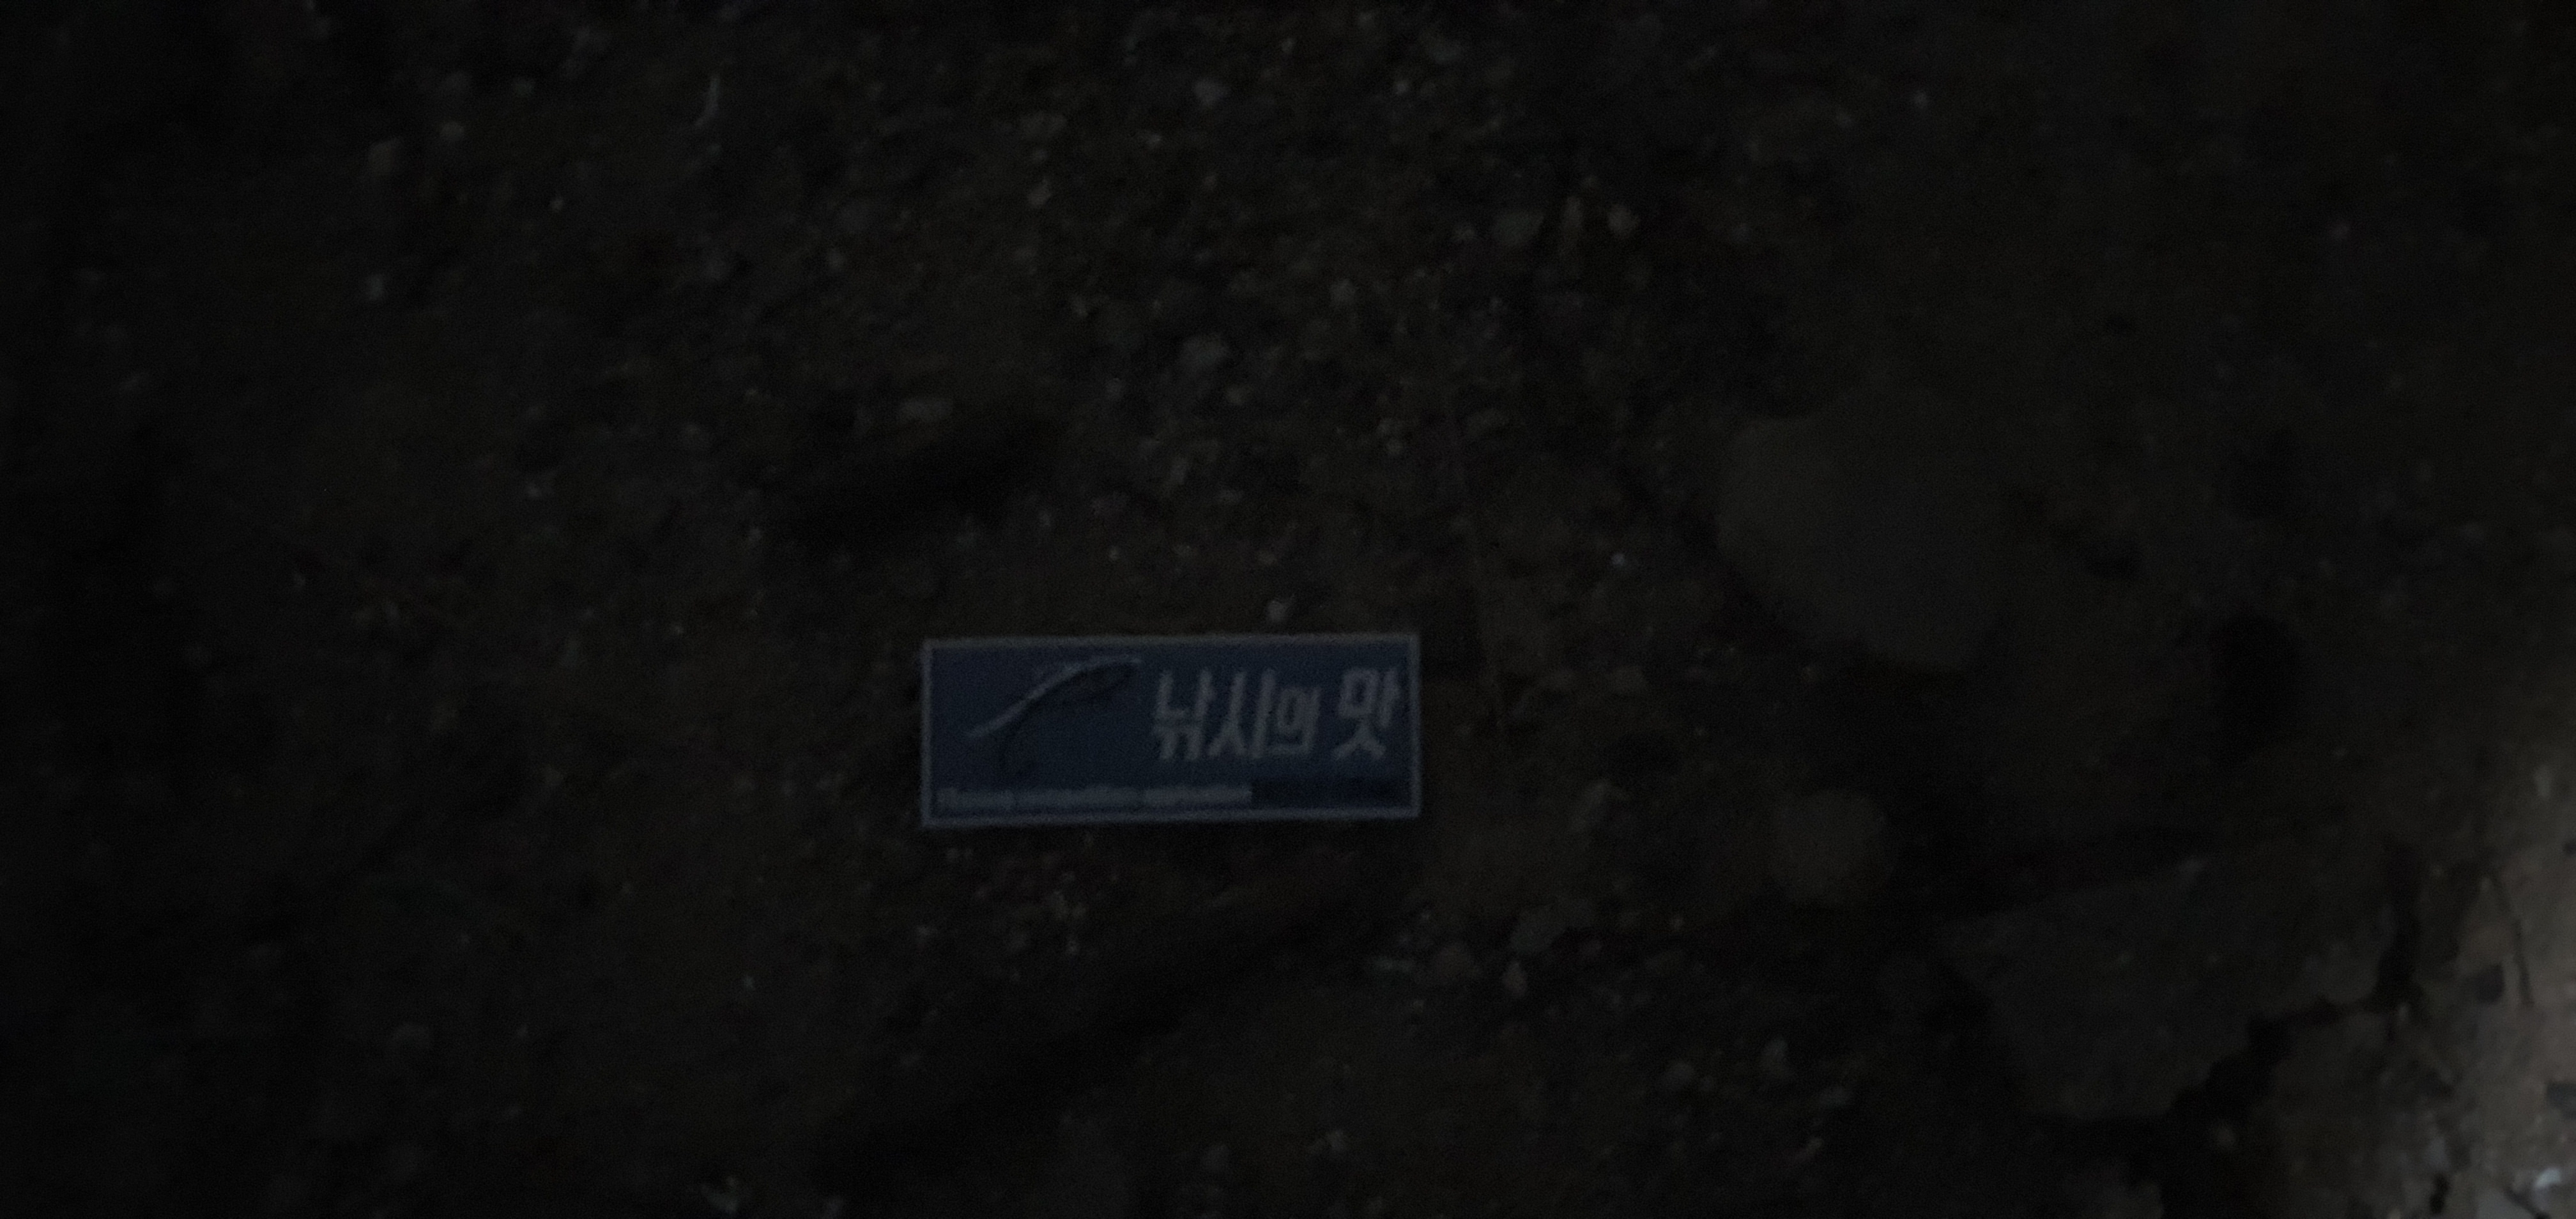tag: (913, 632, 1426, 826)
